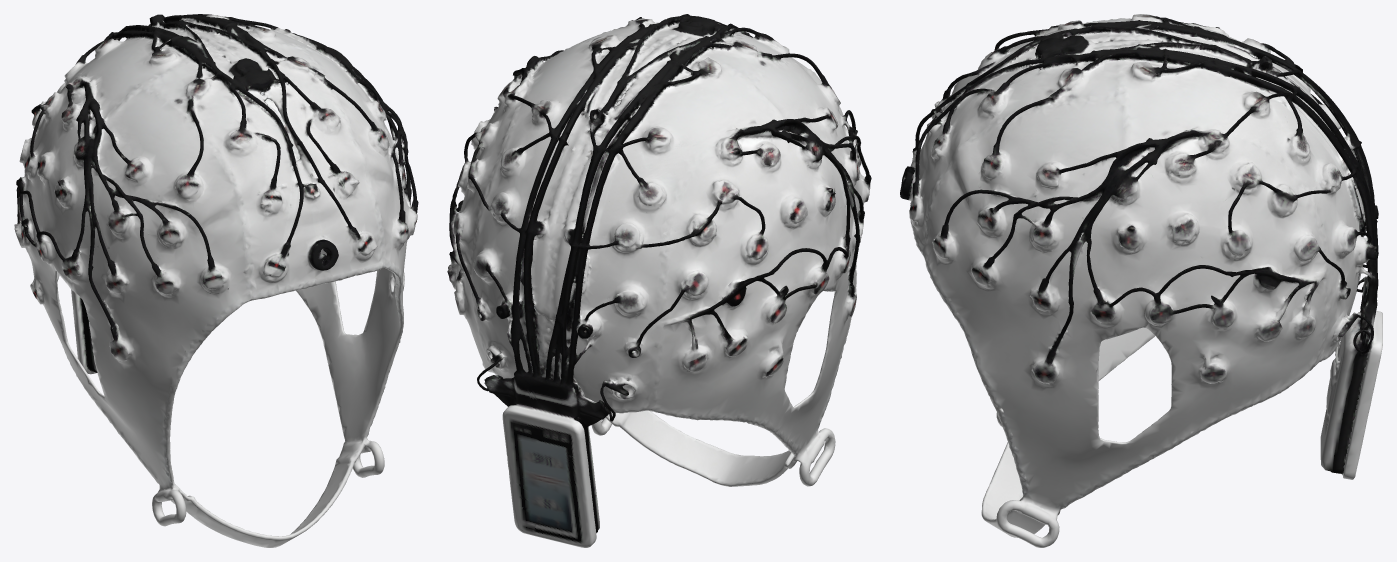
The model's file is Meshy_AI_EEG_Cap_Multiview_2_0228085205_texture.fbx.
3 renders of one model, left to right at view 1: azimuth 30°, elevation 25°; view 2: azimuth 150°, elevation 25°; view 3: azimuth 270°, elevation 25°, orthographic. The views are drawn at different scales.
Visible parts, largest first — view 1: Mesh_0; view 2: Mesh_0; view 3: Mesh_0.
Boxes of the visible parts, bbox=[...] form: Mesh_0: bbox=[14, 14, 418, 547]; Mesh_0: bbox=[447, 14, 871, 547]; Mesh_0: bbox=[900, 14, 1382, 547].
Bounding box in the file's own units: 147 × 191 × 168.
1 material, 1 textured.
